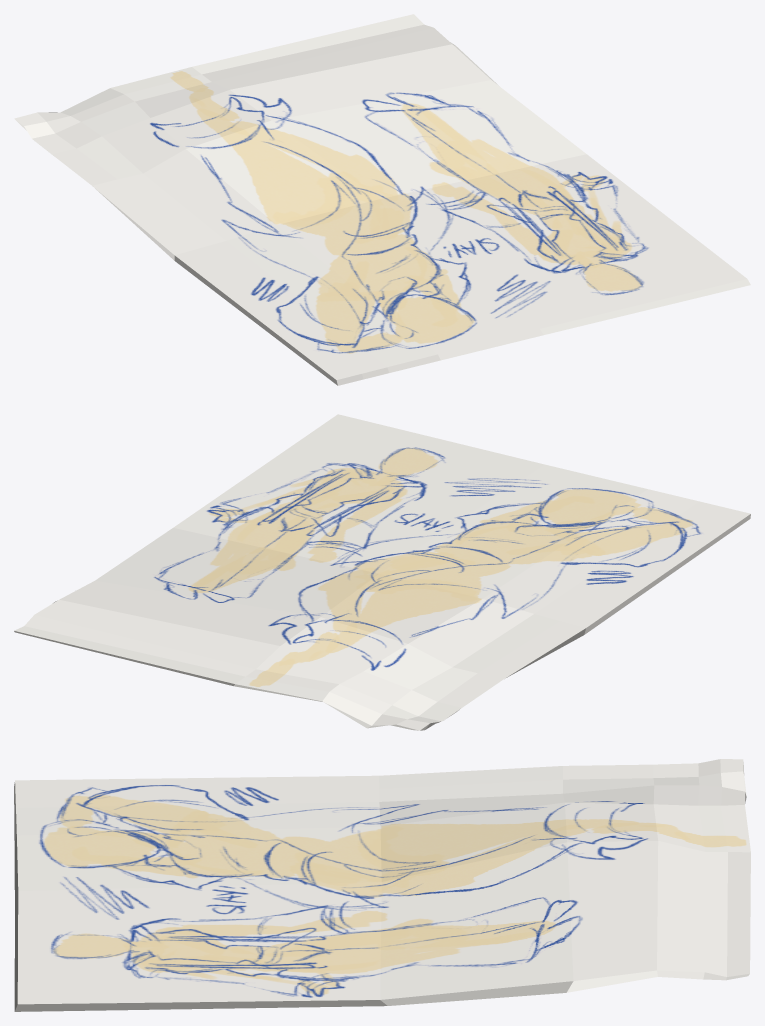
The model's file is fashion_sketch_paper_1.fbx.
3 renders of one model, top to bottom at view 1: azimuth 30°, elevation 25°; view 2: azimuth 150°, elevation 25°; view 3: azimuth 270°, elevation 25°, orthographic. The views are drawn at different scales.
Parts seen in each view (by area): view 1: fashion_sketch_paper_1; view 2: fashion_sketch_paper_1; view 3: fashion_sketch_paper_1.
Part boxes in pixels (bbox=[...]): fashion_sketch_paper_1: bbox=[14, 14, 750, 385]; fashion_sketch_paper_1: bbox=[14, 414, 750, 730]; fashion_sketch_paper_1: bbox=[14, 759, 750, 1011].
Size of the model in its own units: 14.4 by 19.92 by 1.34.
Materials: 1 (1 with a texture image).
